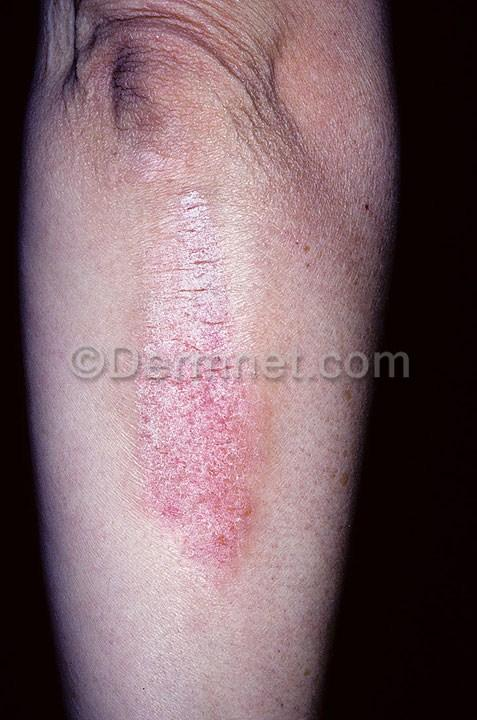Eczema: (118, 383, 279, 595), (126, 135, 271, 348)
